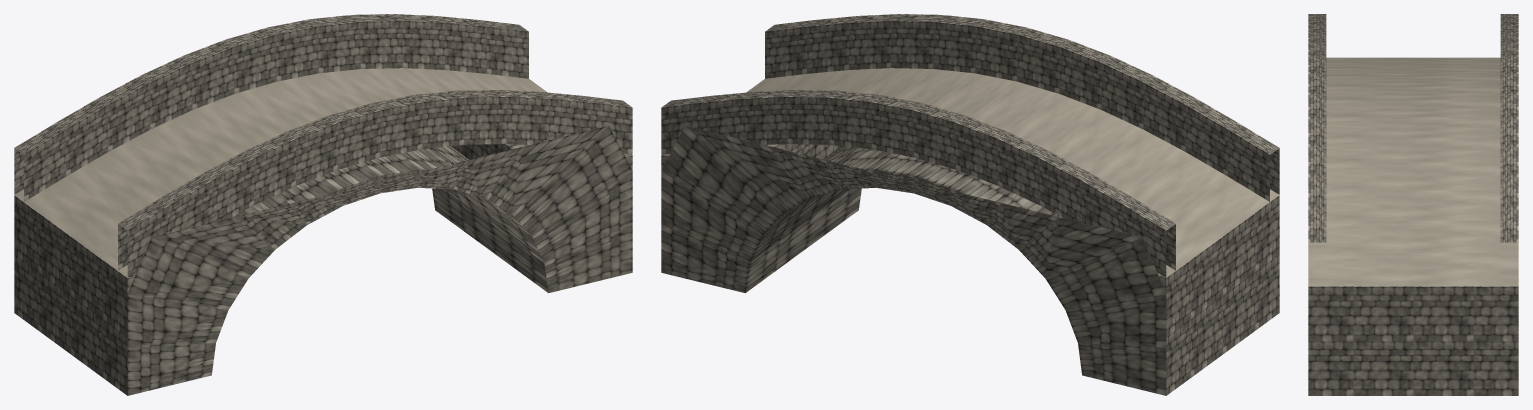
The model's file is Bridge_Stone_Hump_1.gltf.
3 views of the same model, side by side, from view 1: azimuth 30°, elevation 25°; view 2: azimuth 150°, elevation 25°; view 3: azimuth 270°, elevation 25° (orthographic). The views are drawn at different scales.
Parts seen in each view (by area): view 1: Bridge_Stone_Hump_1; view 2: Bridge_Stone_Hump_1; view 3: Bridge_Stone_Hump_1.
Part boxes in pixels (x1,y1,x2,y2): Bridge_Stone_Hump_1: [14, 14, 632, 395]; Bridge_Stone_Hump_1: [661, 14, 1279, 395]; Bridge_Stone_Hump_1: [1308, 14, 1518, 395].
Bounding box in the file's own units: 9 × 3.81 × 3.5.
Materials: 2 (2 with a texture image).
